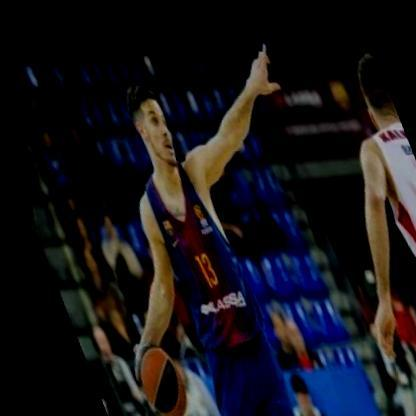basketball: (108, 328, 194, 416)
